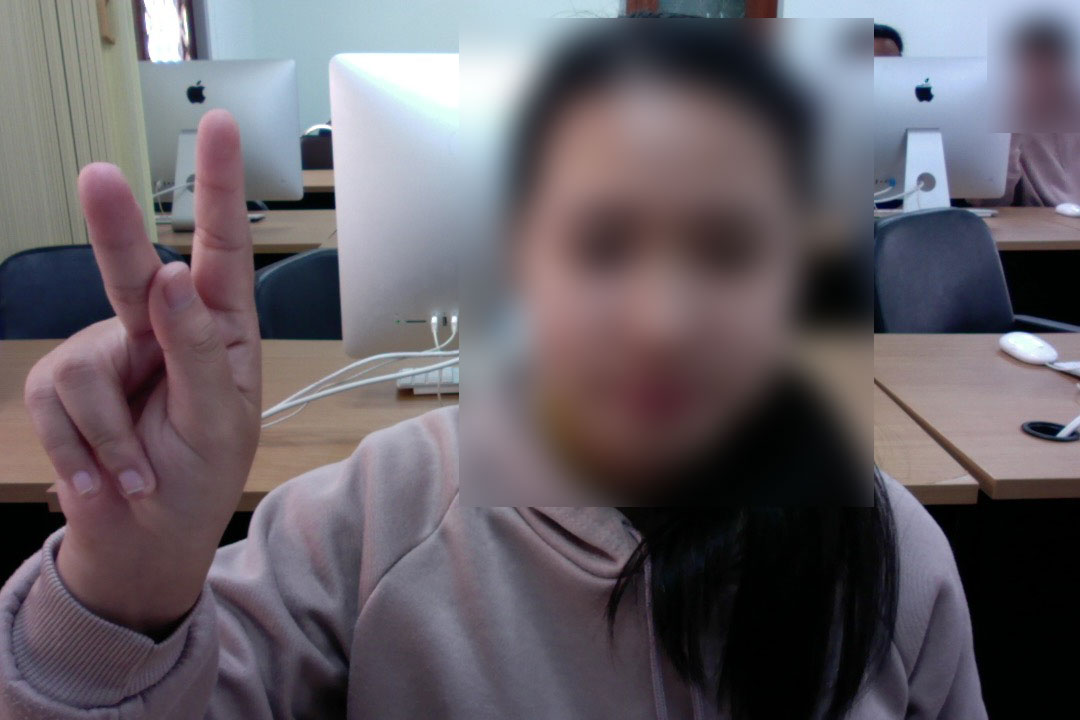ko: (10, 101, 278, 575)
